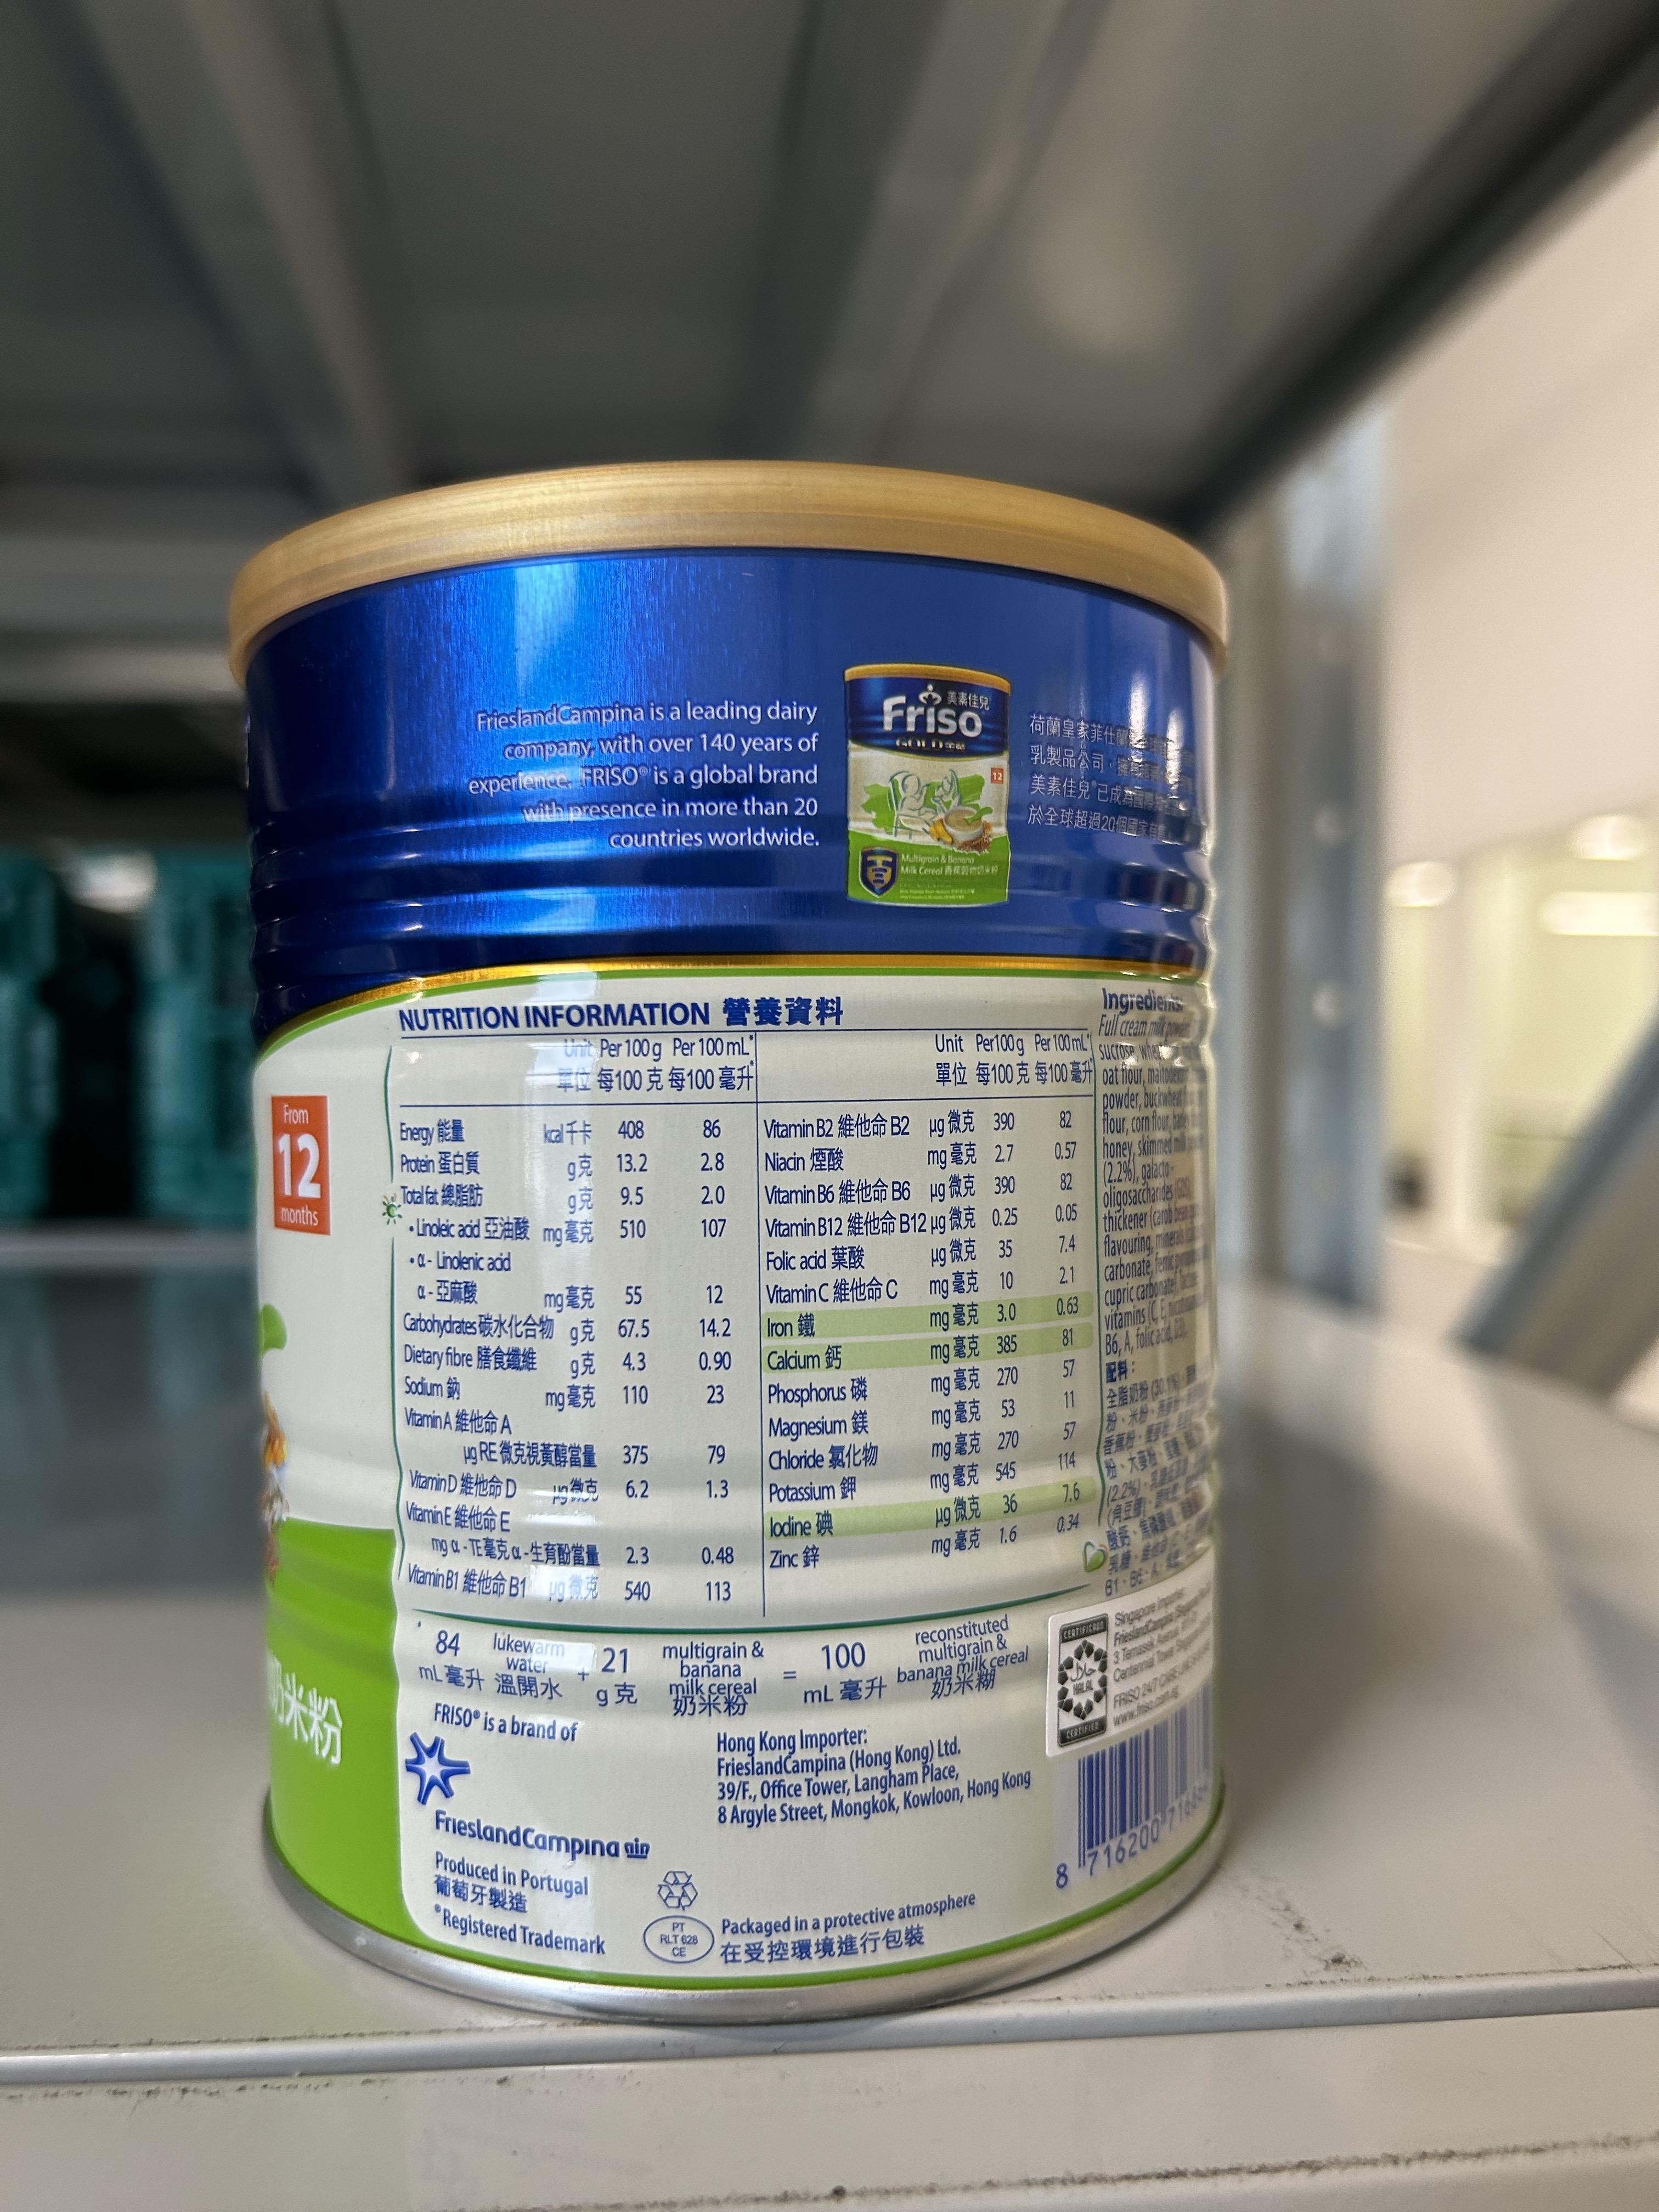object_name: (261, 577, 1215, 1892)
